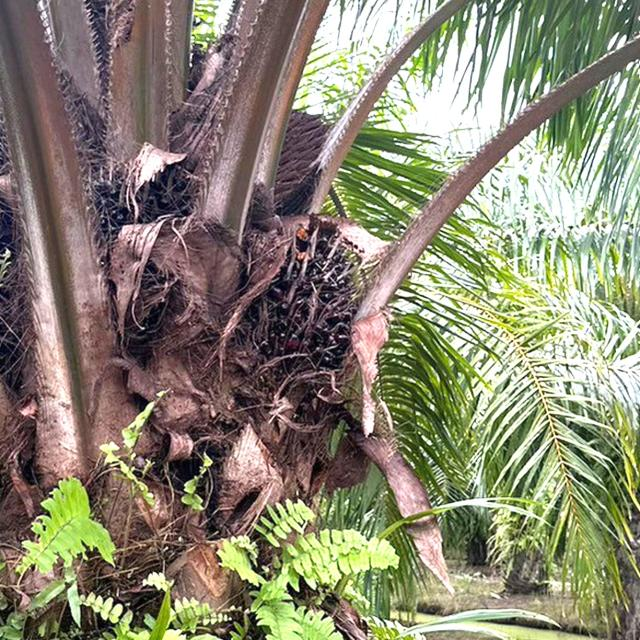ripe: (254, 216, 360, 377)
